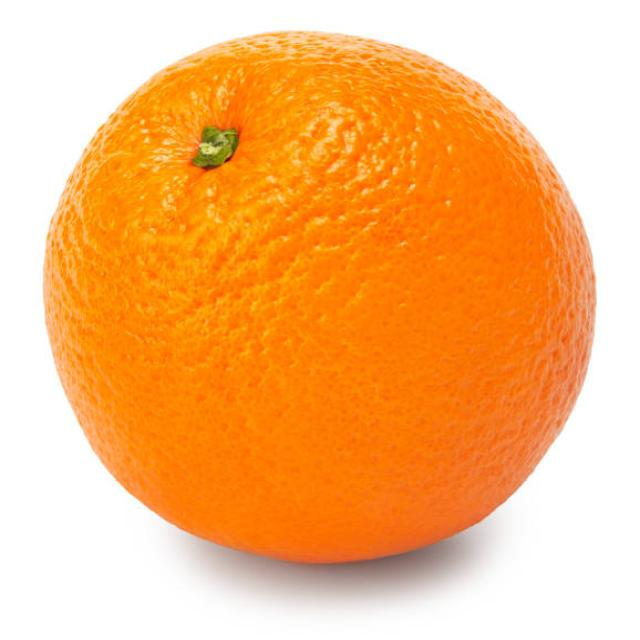Ripe: (31, 35, 604, 566)
